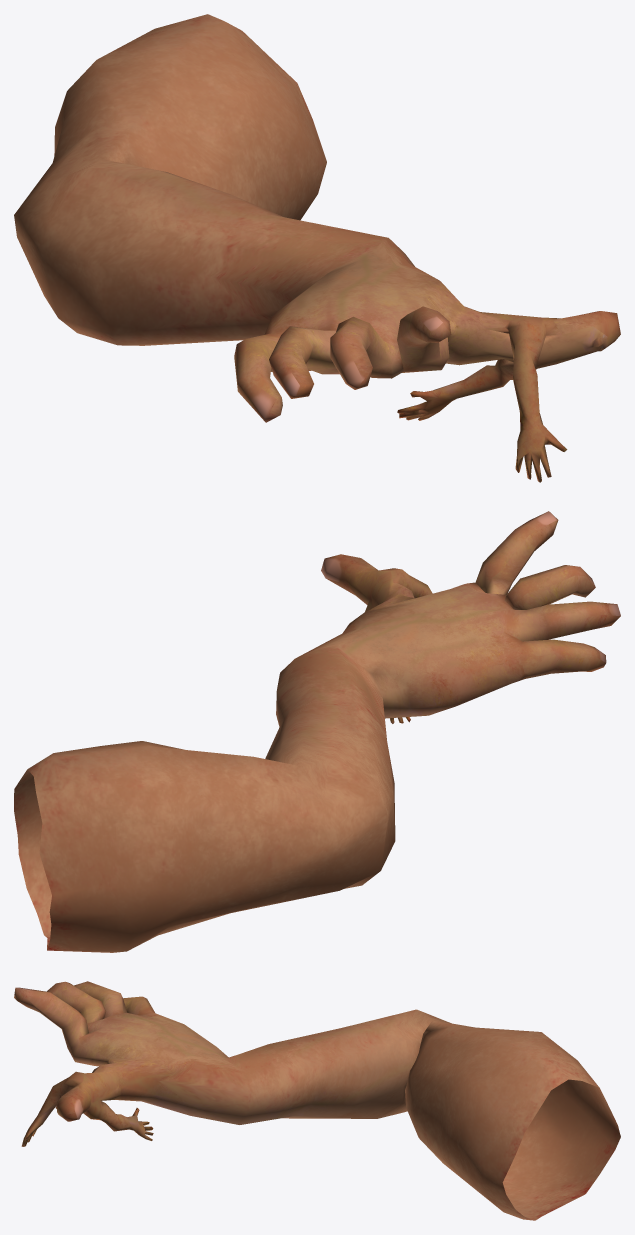
Rendered from DeadThumb3.fbx.
3 views of the same model, one above another, from view 1: azimuth 30°, elevation 25°; view 2: azimuth 150°, elevation 25°; view 3: azimuth 270°, elevation 25° (orthographic). The views are drawn at different scales.
Visible parts, largest first — view 1: ThumbFighterModel; view 2: ThumbFighterModel; view 3: ThumbFighterModel.
Boxes of the visible parts, <box> form: ThumbFighterModel: <box>14,14,620,482</box>; ThumbFighterModel: <box>14,511,620,952</box>; ThumbFighterModel: <box>14,981,620,1220</box>.
Bounding box in the file's own units: 326 × 211 × 678.
